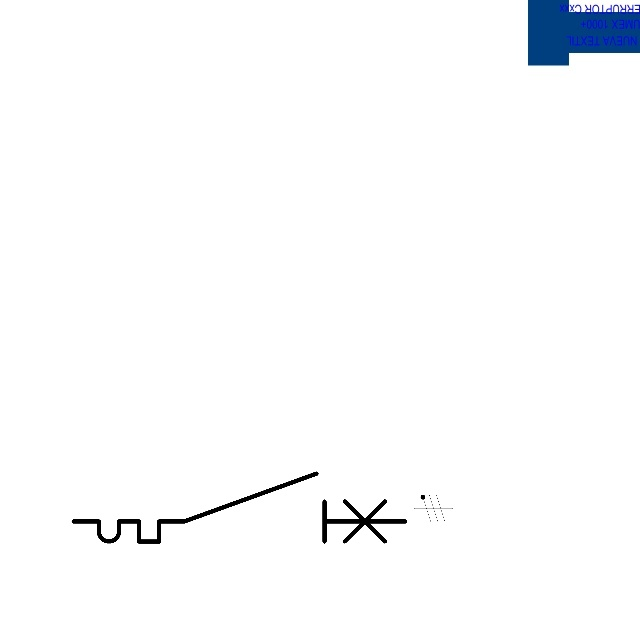interruptor_termomagnetico: (65, 465, 413, 550)
